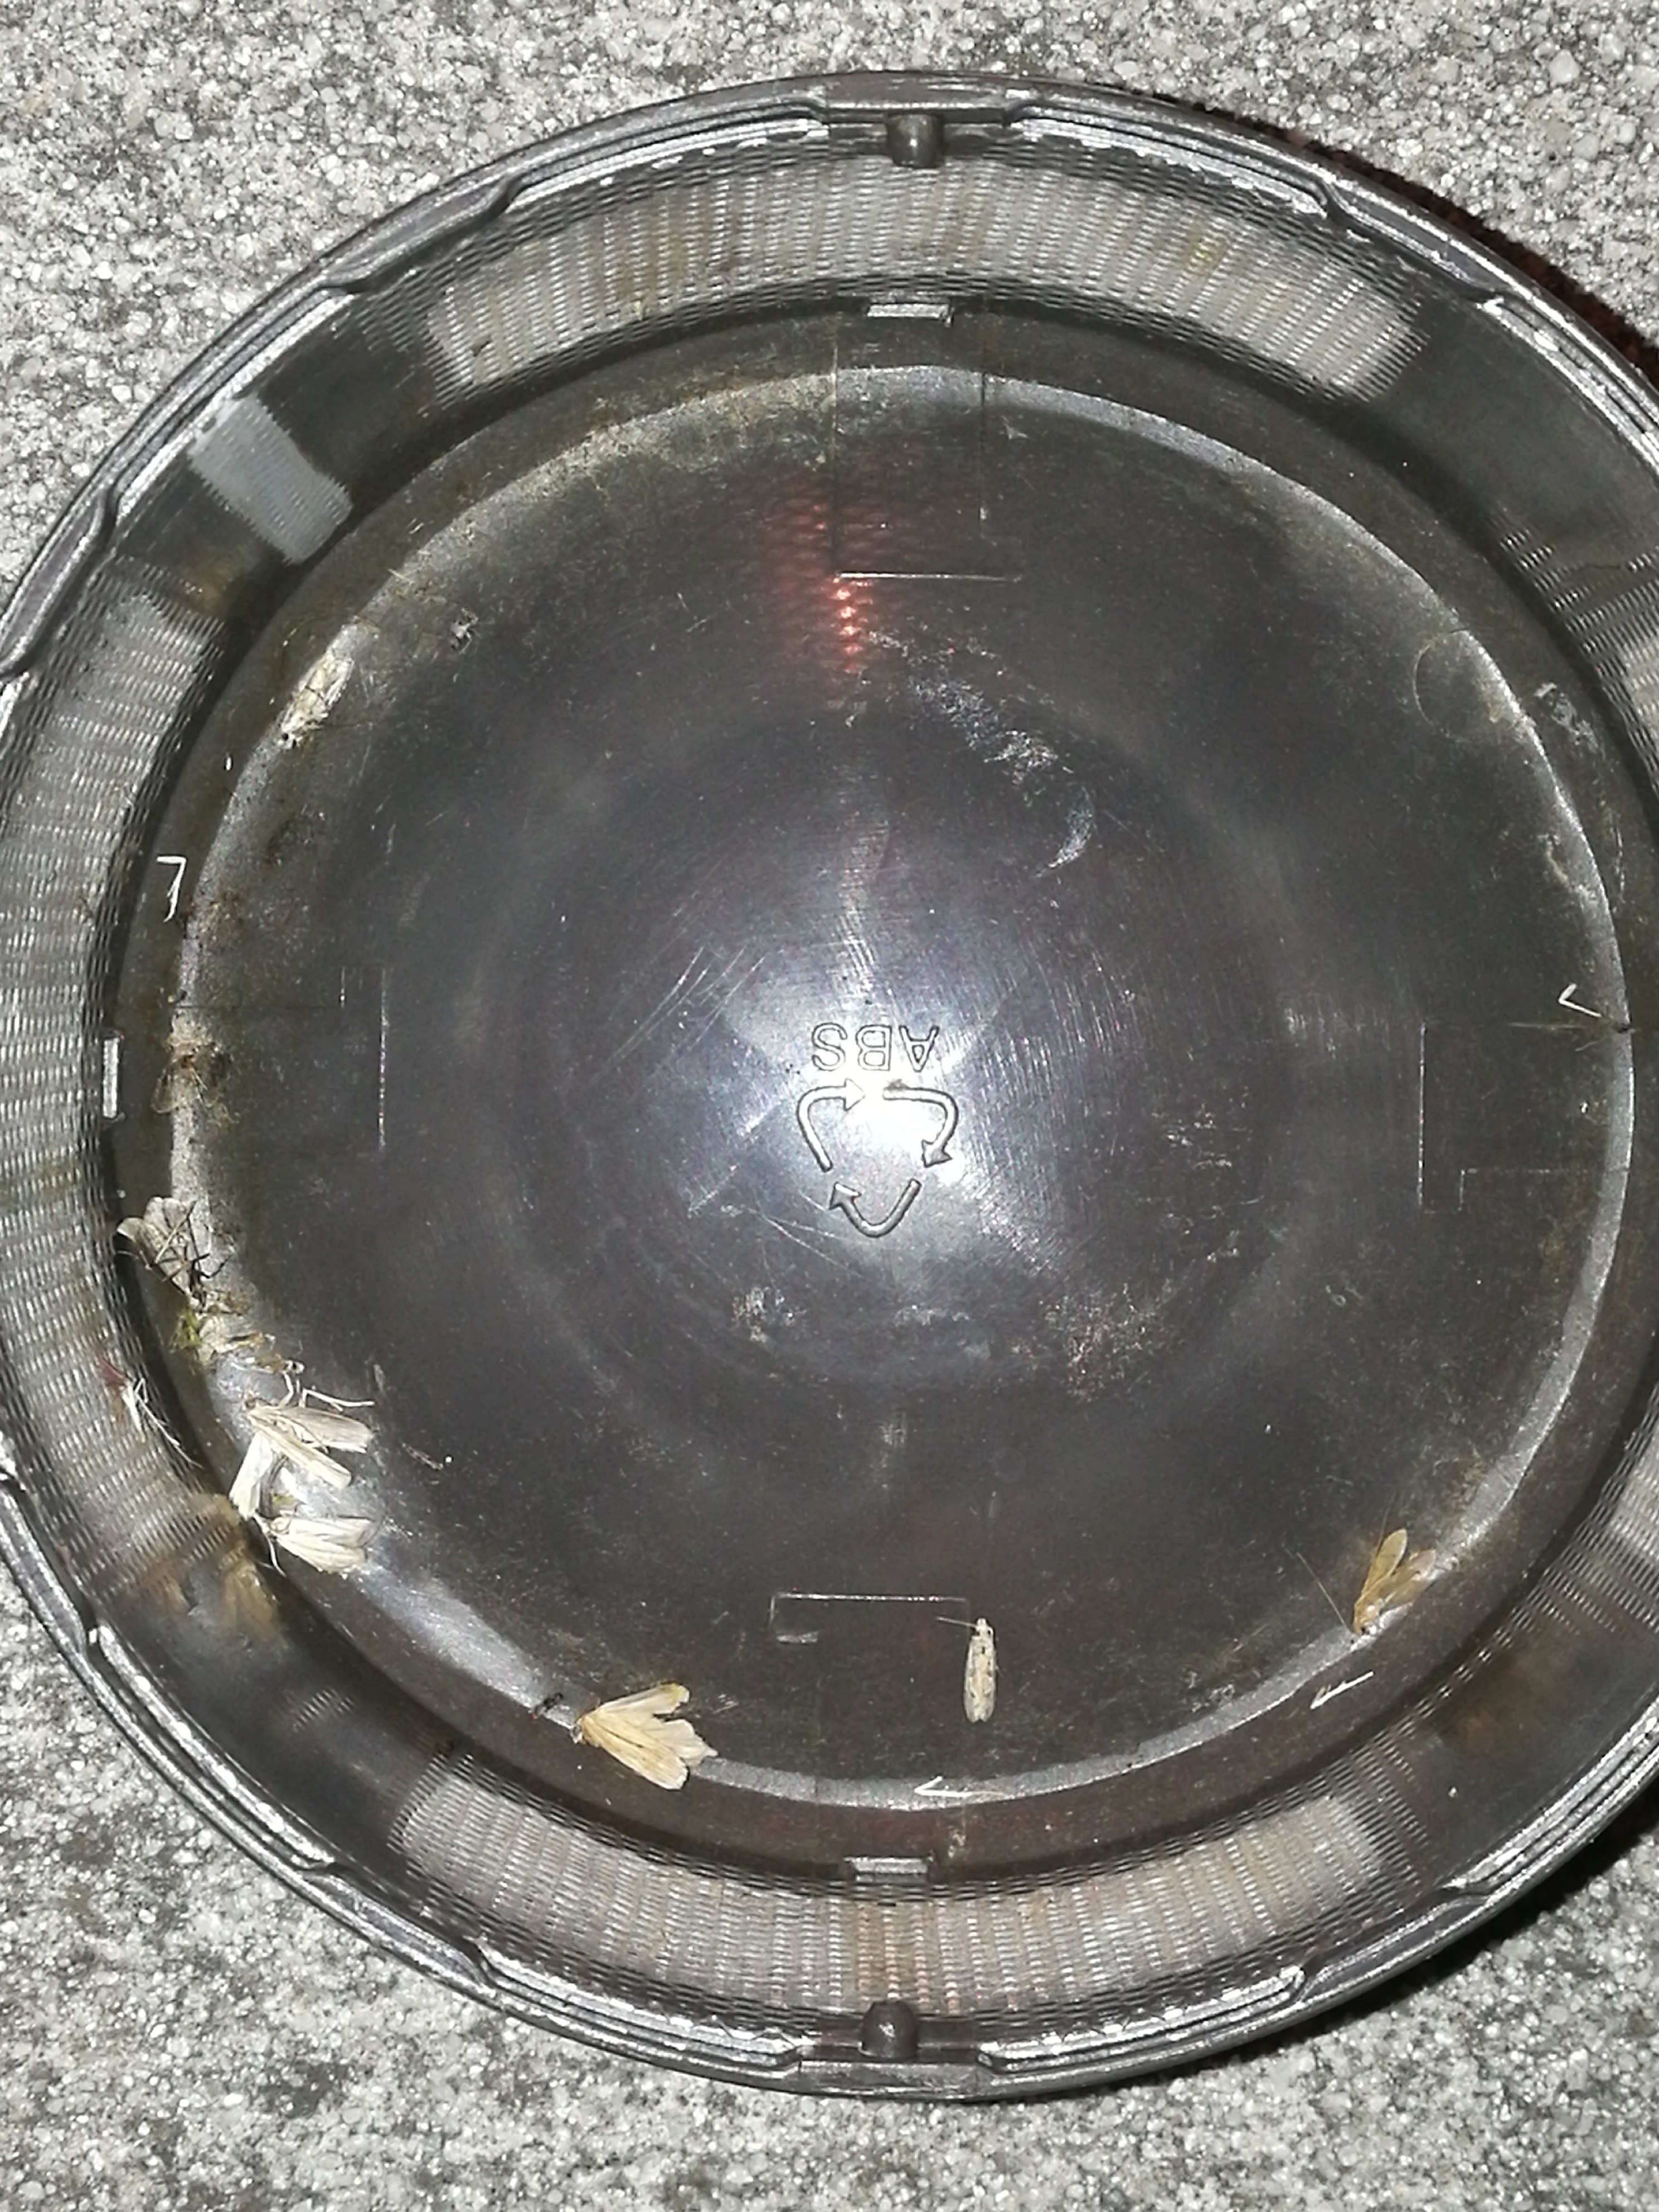mosquito: (281, 651, 352, 751), (228, 1433, 274, 1521), (964, 1620, 995, 1724)
moth: (573, 1684, 720, 1789), (240, 1399, 373, 1487), (113, 1197, 206, 1298), (1354, 1529, 1438, 1634), (270, 1519, 375, 1578)
